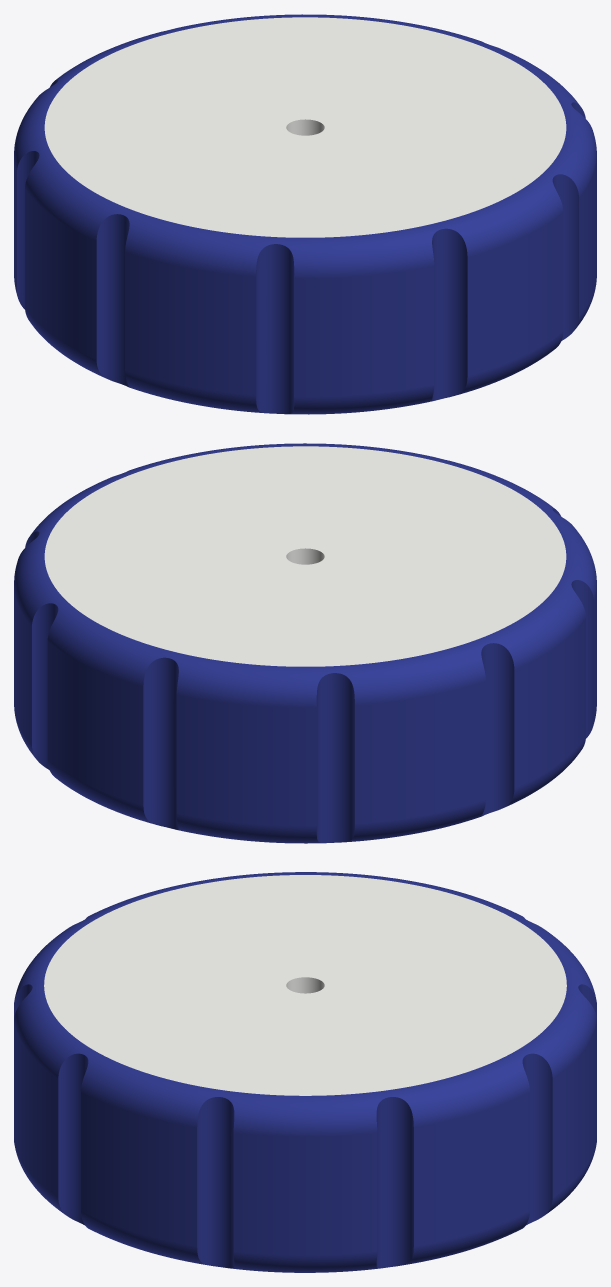
File: wheel.obj
The picture shows the model from 3 angles, top to bottom: view 1: azimuth 30°, elevation 25°; view 2: azimuth 150°, elevation 25°; view 3: azimuth 270°, elevation 25°; orthographic projection.
Parts seen in each view (by area): view 1: Body1; view 2: Body1; view 3: Body1.
Part boxes in pixels (x1,y1,x2,y2): Body1: [14, 14, 596, 414]; Body1: [14, 443, 596, 843]; Body1: [14, 872, 596, 1272].
Bounding box in the file's own units: 0.076 × 0.025 × 0.0758.
